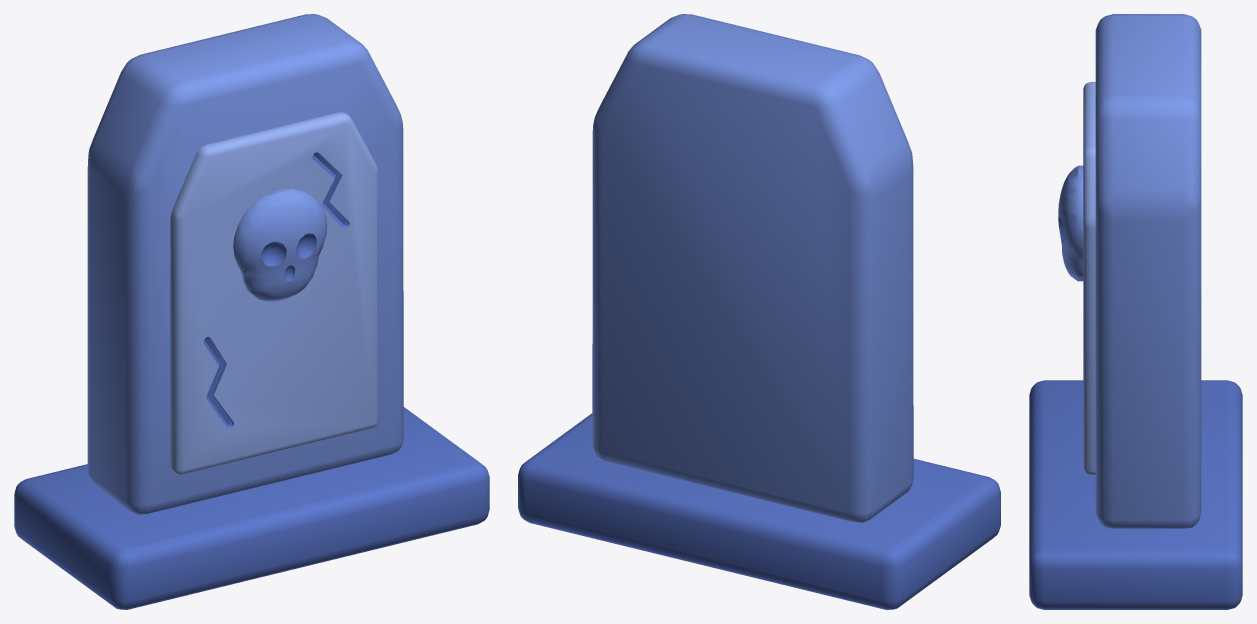
File: Tombstone.fbx
3 views of the same model, side by side, from view 1: azimuth 30°, elevation 25°; view 2: azimuth 150°, elevation 25°; view 3: azimuth 270°, elevation 25° (orthographic). The views are drawn at different scales.
Visible parts, largest first — view 1: Tombstone; view 2: Tombstone; view 3: Tombstone.
Boxes of the visible parts, <box> form: Tombstone: <box>14,14,489,609</box>; Tombstone: <box>518,14,1000,609</box>; Tombstone: <box>1029,14,1242,609</box>.
Size of the model in its own units: 170 by 206 by 85.
1 material, 1 textured.
